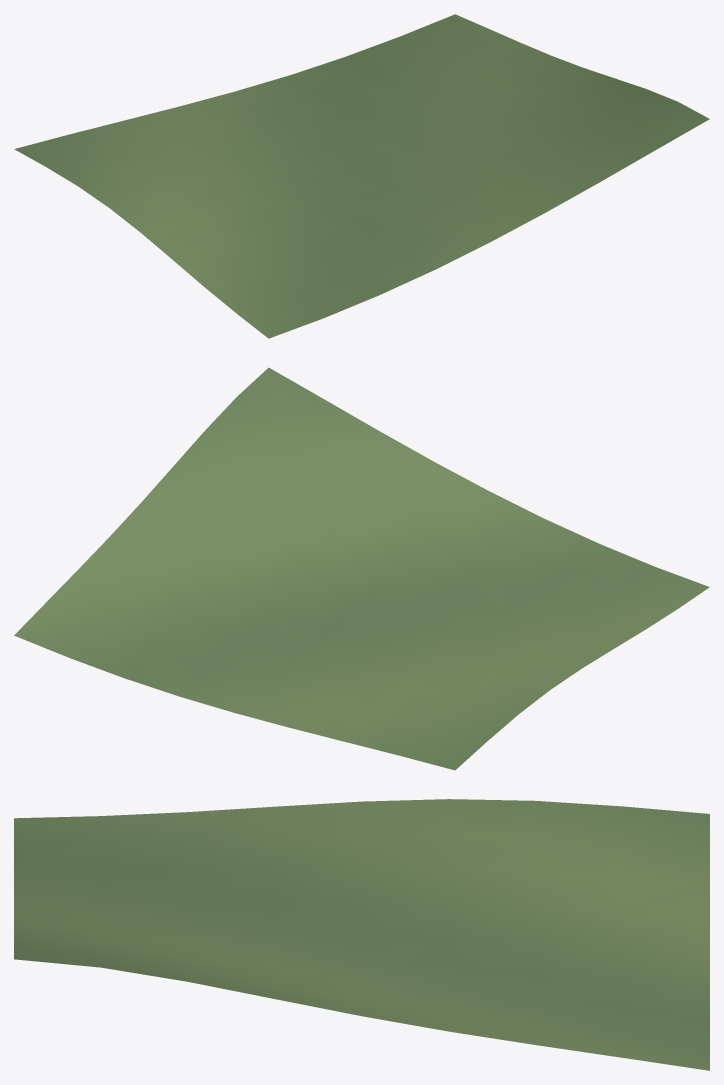
The model's file is Terrain-0-5-1.glb.
3 renders of one model, top to bottom at view 1: azimuth 30°, elevation 25°; view 2: azimuth 150°, elevation 25°; view 3: azimuth 270°, elevation 25°, orthographic. The views are drawn at different scales.
Parts seen in each view (by area): view 1: Terrain-0-5-1; view 2: Terrain-0-5-1; view 3: Terrain-0-5-1.
Boxes of the visible parts, x1,y1,x2,y2 form: Terrain-0-5-1: (14,14,709,338); Terrain-0-5-1: (14,367,709,770); Terrain-0-5-1: (14,799,709,1070).
Size of the model in its own units: 6 by 1.46 by 6.
